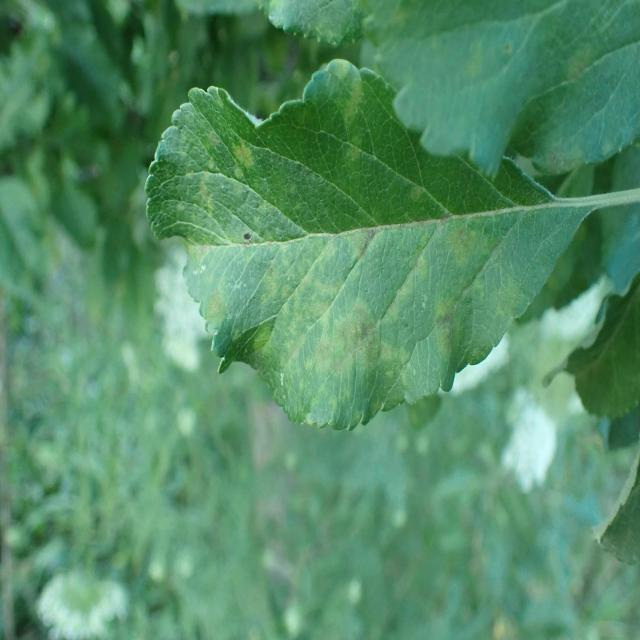scab: (151, 88, 537, 429), (370, 0, 608, 175)
